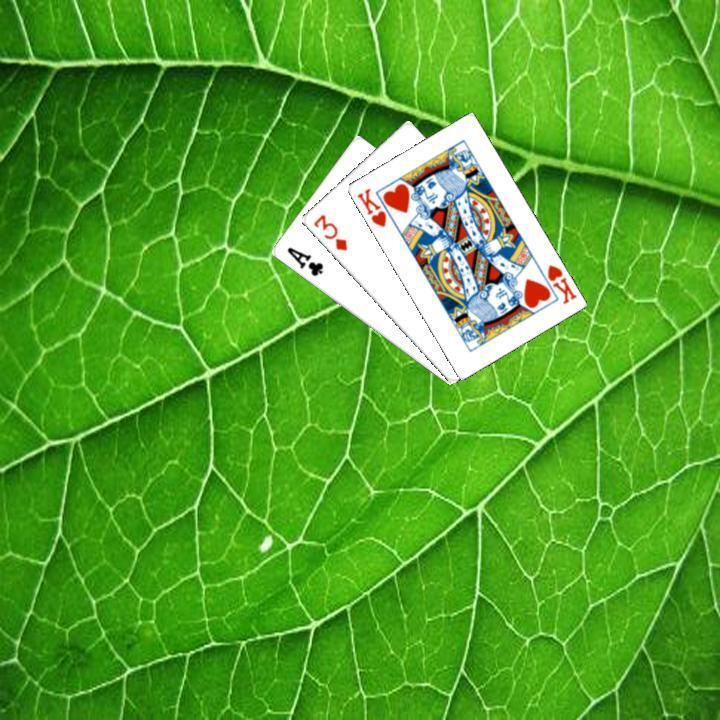3: (308, 210, 349, 253)
A: (282, 242, 325, 278)
K: (542, 260, 578, 306), (352, 184, 388, 229)
